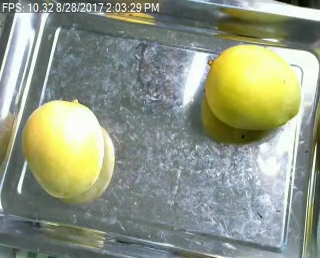Mango: (197, 42, 305, 129), (21, 96, 108, 199)
